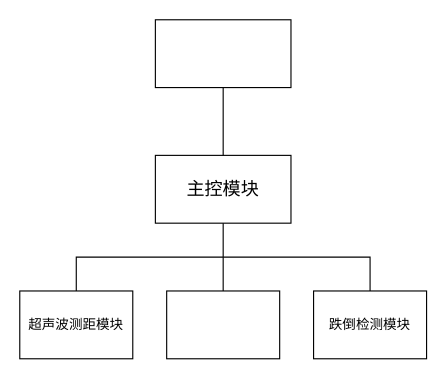
The diagram is 446 pixels wide and 379 high, and some of its shapes have lost their labels. The shapes that lost their labels are listed below. From the top down, each one's centre as x and y in pixels, then its label:
(222,53): 电源模块
(223,324): 语音播报模块
